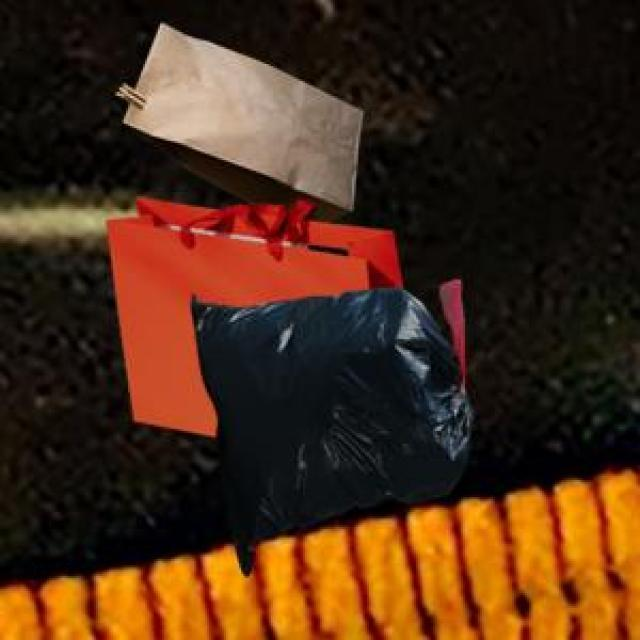miscellaneous trash: (188, 275, 469, 572)
paper: (102, 194, 397, 433), (113, 19, 358, 220)
